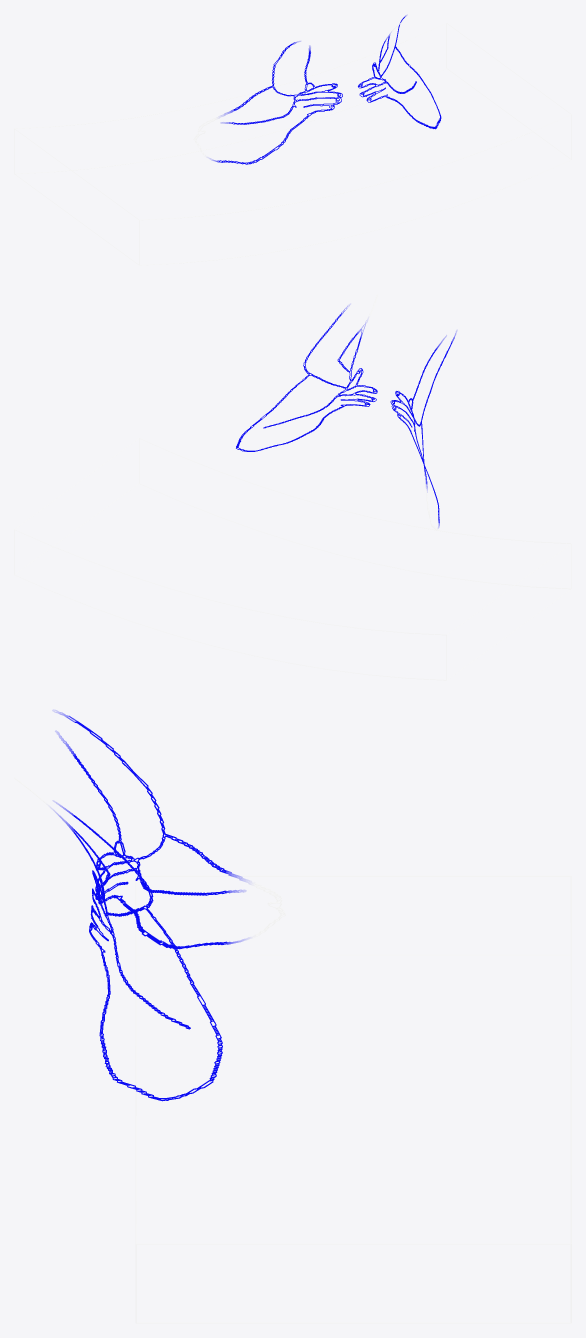
3 views of the same model, one above another, from view 1: azimuth 30°, elevation 25°; view 2: azimuth 150°, elevation 25°; view 3: azimuth 270°, elevation 25° (orthographic). The views are drawn at different scales.
Bounding box in the file's own units: 4.01 × 2.09 × 2.56.
